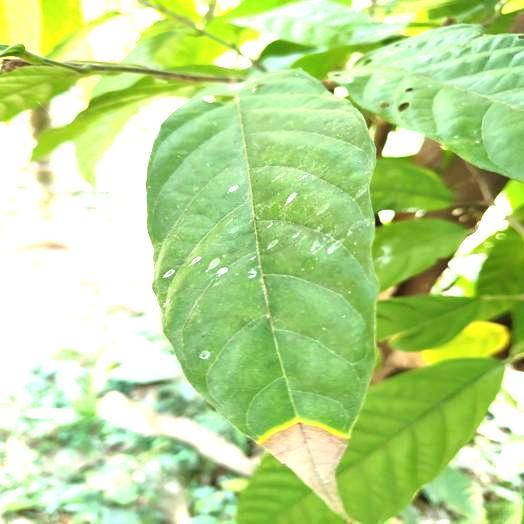Potassium: (148, 72, 375, 511)
